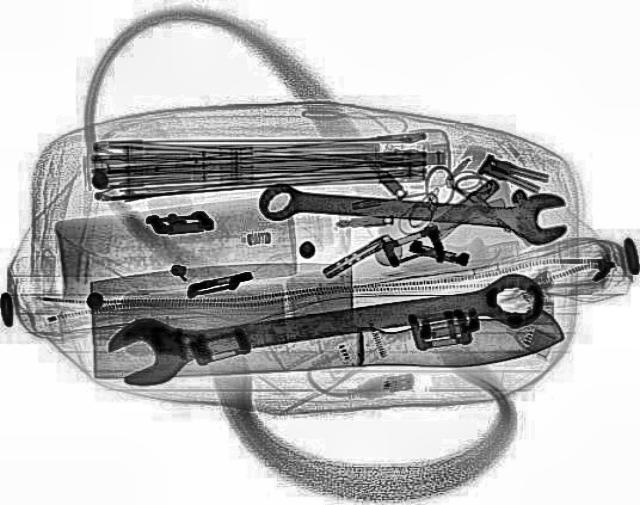Knife: (81, 247, 564, 385)
Wrench: (98, 264, 550, 388), (255, 174, 568, 244)
